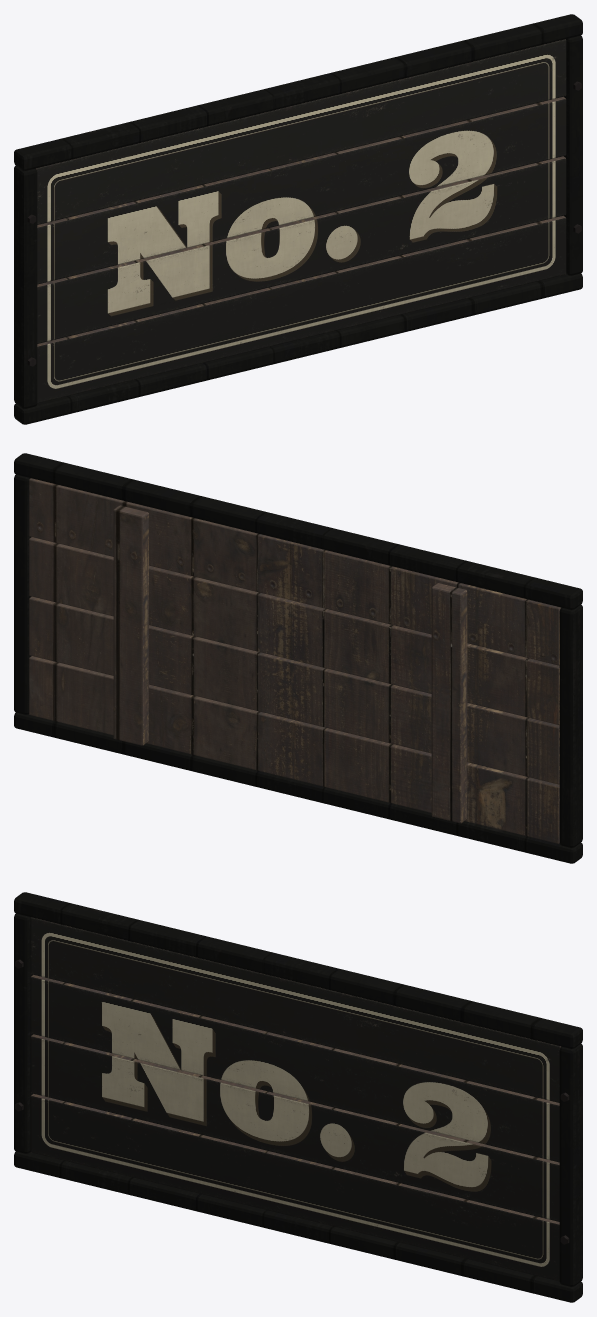
The model's file is gate-board-no-2.glb.
3 renders of one model, top to bottom at view 1: azimuth 30°, elevation 25°; view 2: azimuth 150°, elevation 25°; view 3: azimuth 330°, elevation 25°, orthographic.
Visible parts, largest first — view 1: gate-board-no-2; view 2: gate-board-no-2; view 3: gate-board-no-2.
Part boxes in pixels (<box>): gate-board-no-2: <box>14,14,582,424</box>; gate-board-no-2: <box>14,453,582,863</box>; gate-board-no-2: <box>14,892,582,1302</box>.
Size of the model in its own units: 1.48 by 0.68 by 0.0857.
Materials: 4 (4 with a texture image).
